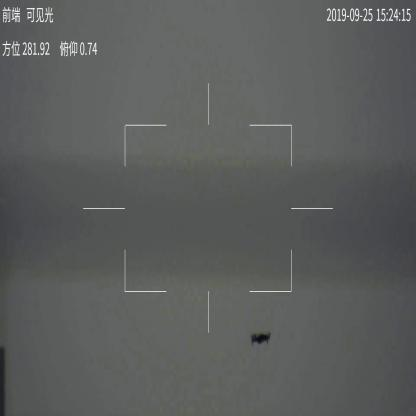uav: (250, 333, 272, 345)
